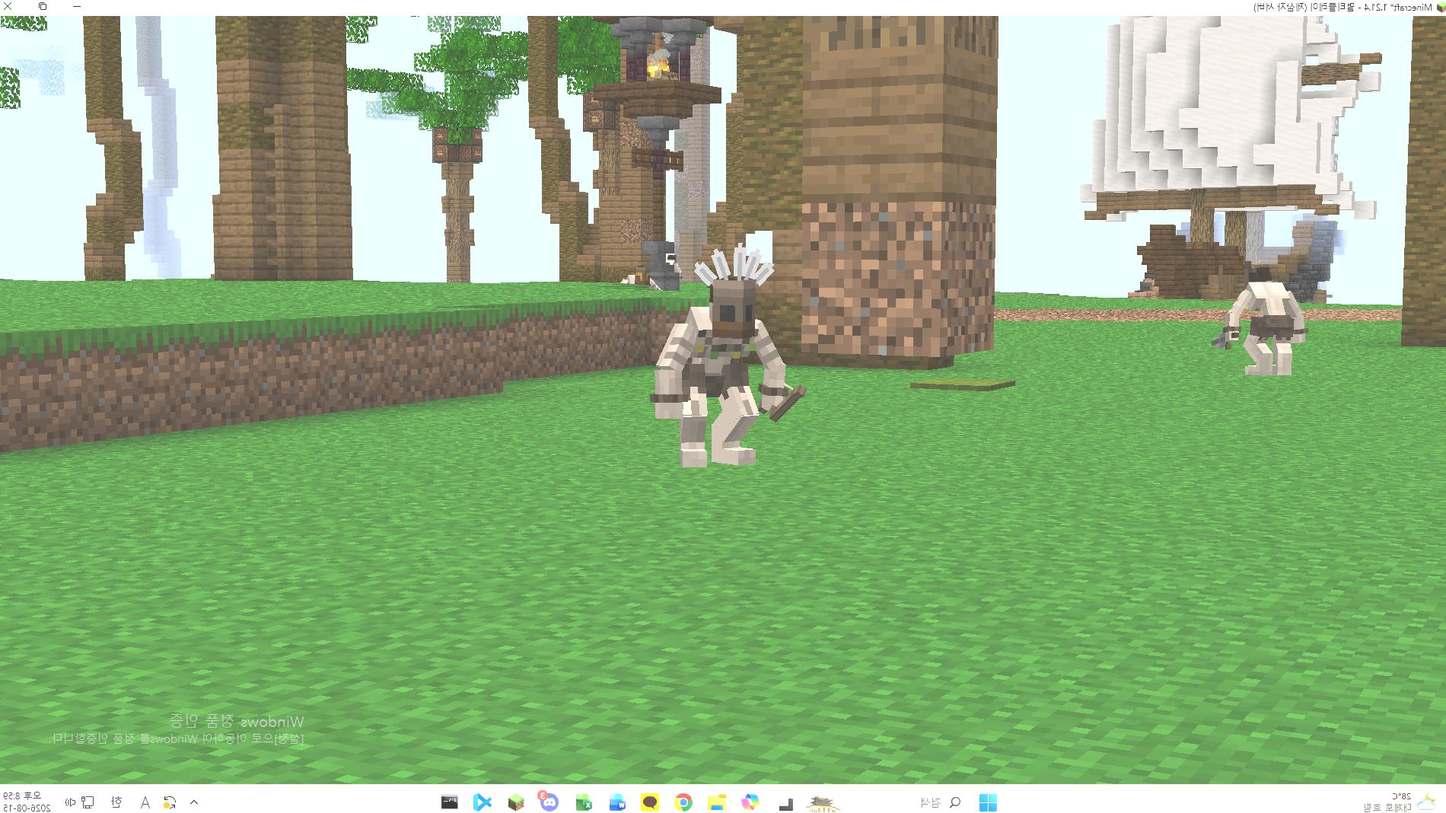bow_indian: (614, 234, 831, 467)
